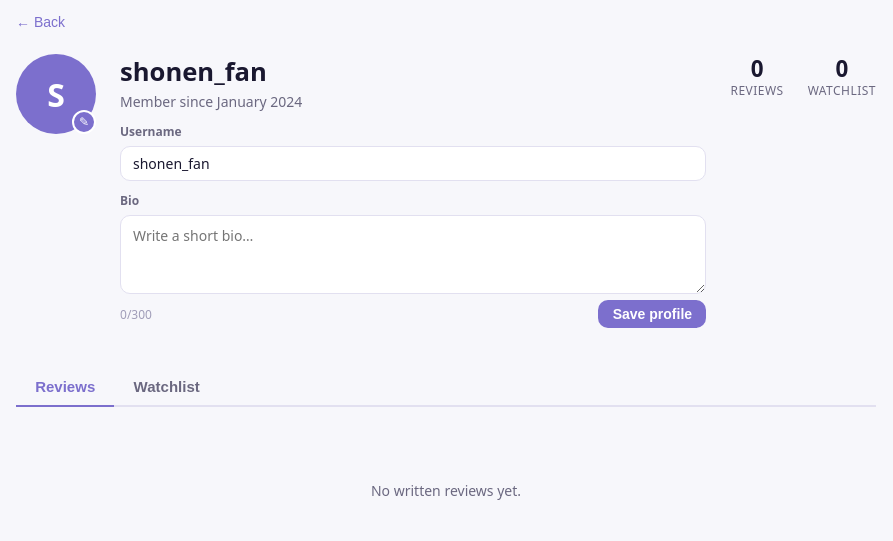
it: UserProfile — profile save distinguishes a 409 username conflict › shows a "username already taken" message on a 409 response
Expected: the field showing "shonen_fan" is shown, [120,146,706,181]
Step 1. Click the button "Save profile" → (652, 314), box [598,300,706,328]
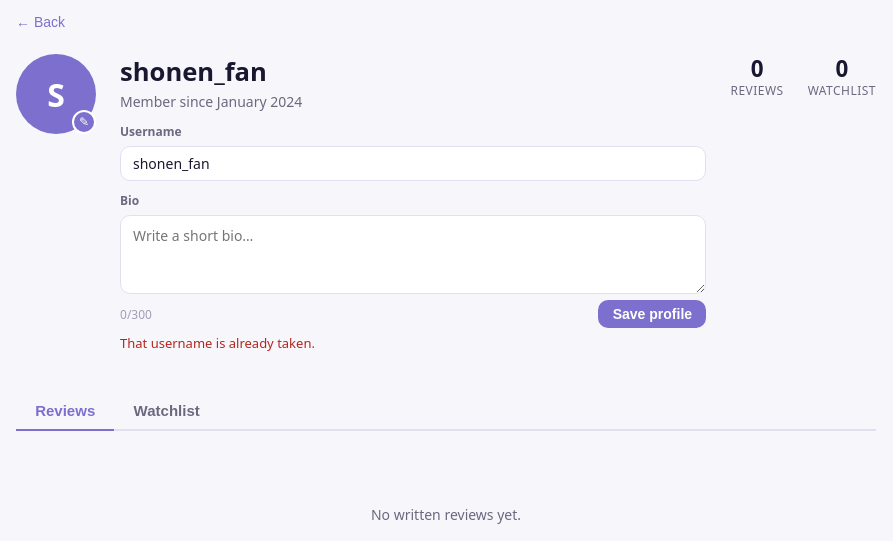
Expected: the text "That username is already taken." is shown, [120,334,315,352]
